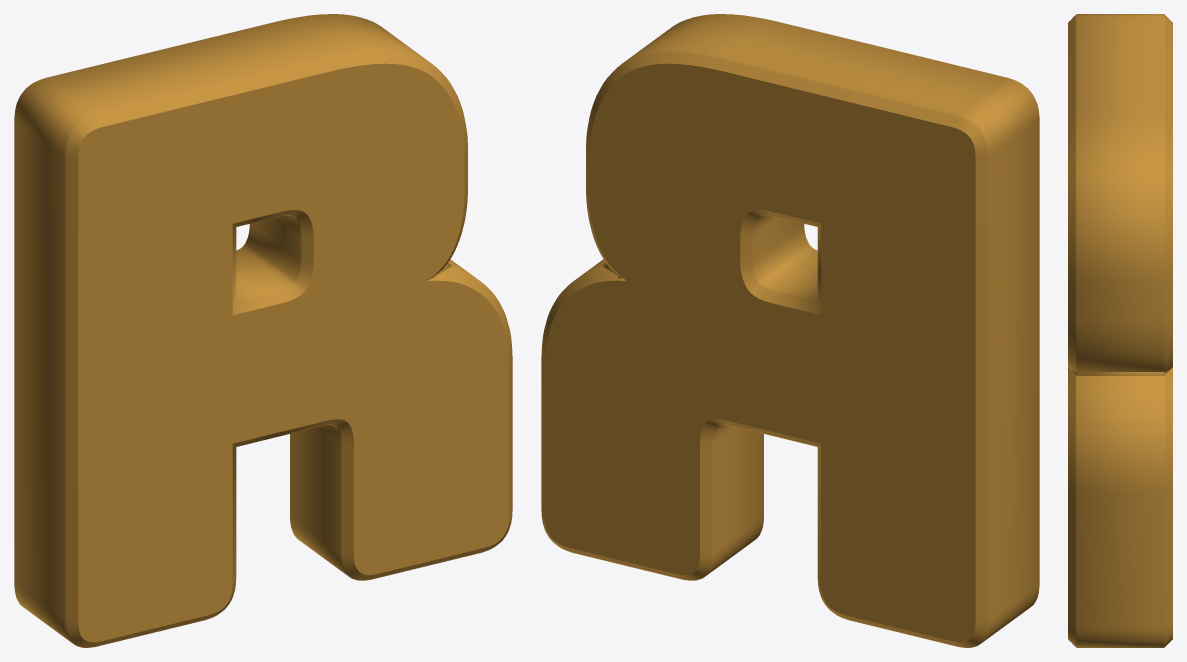
File: bungee-letterR-draco.glb
3 renders of one model, left to right at view 1: azimuth 30°, elevation 25°; view 2: azimuth 150°, elevation 25°; view 3: azimuth 270°, elevation 25°, orthographic. The views are drawn at different scales.
Parts seen in each view (by area): view 1: Text; view 2: Text; view 3: Text.
Part boxes in pixels (left/top/right/bottom): Text: left=14, top=14, right=512, bottom=647; Text: left=541, top=14, right=1039, bottom=647; Text: left=1068, top=14, right=1172, bottom=647.
Size of the model in its own units: 2.57 by 2.92 by 0.5994.
